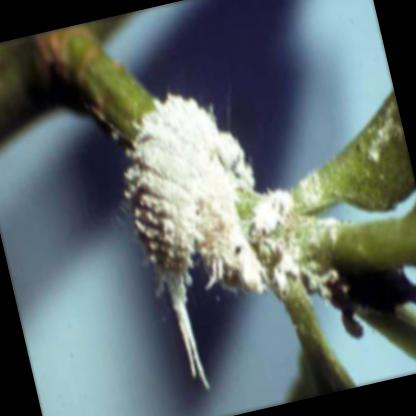mealy bug: (125, 95, 216, 383)
